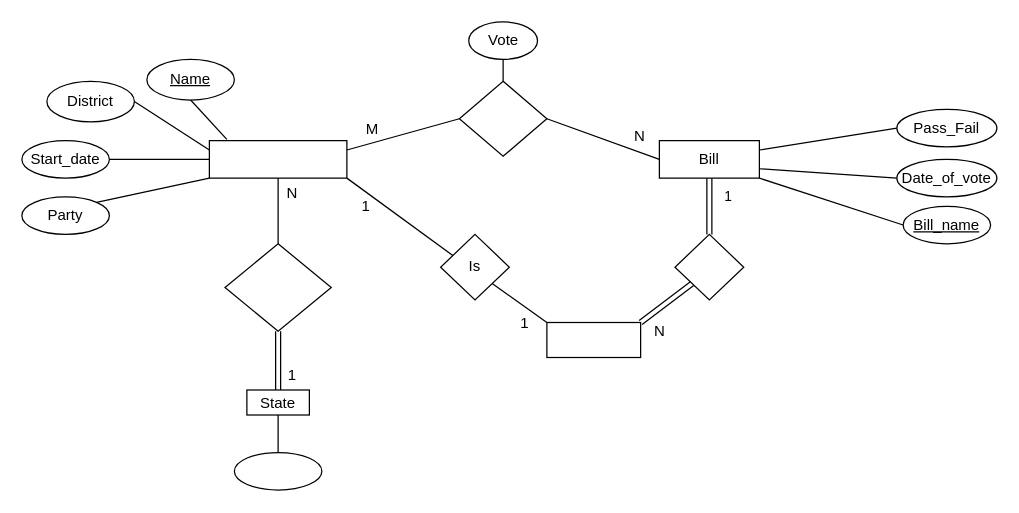
This 1019x513 diagram has some shape labels left out. Here are the shapes that lost their labels. From the top down, the box of each, then its label:
(458, 80, 547, 156): Votes
(208, 139, 347, 178): Congress_Person
(224, 242, 331, 331): Represents
(674, 233, 744, 300): Has
(546, 321, 641, 358): Sponsor
(233, 451, 322, 490): Region
